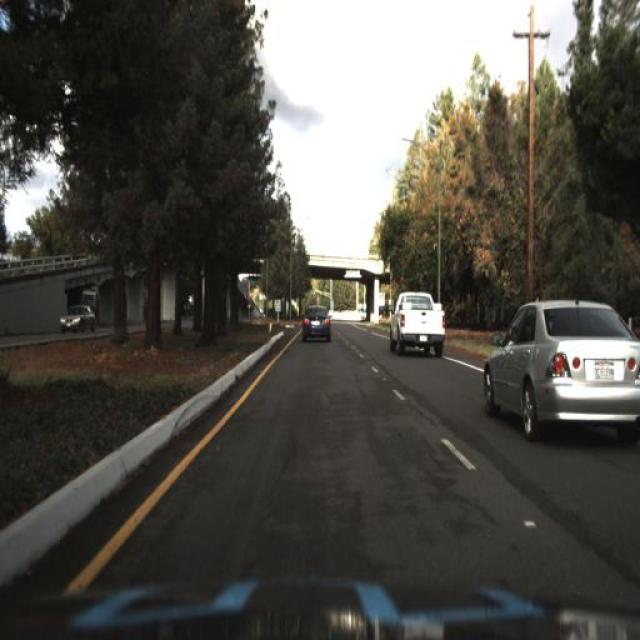car: (483, 292, 638, 447), (386, 286, 450, 364), (293, 288, 337, 358), (56, 303, 100, 341), (56, 301, 98, 338)
